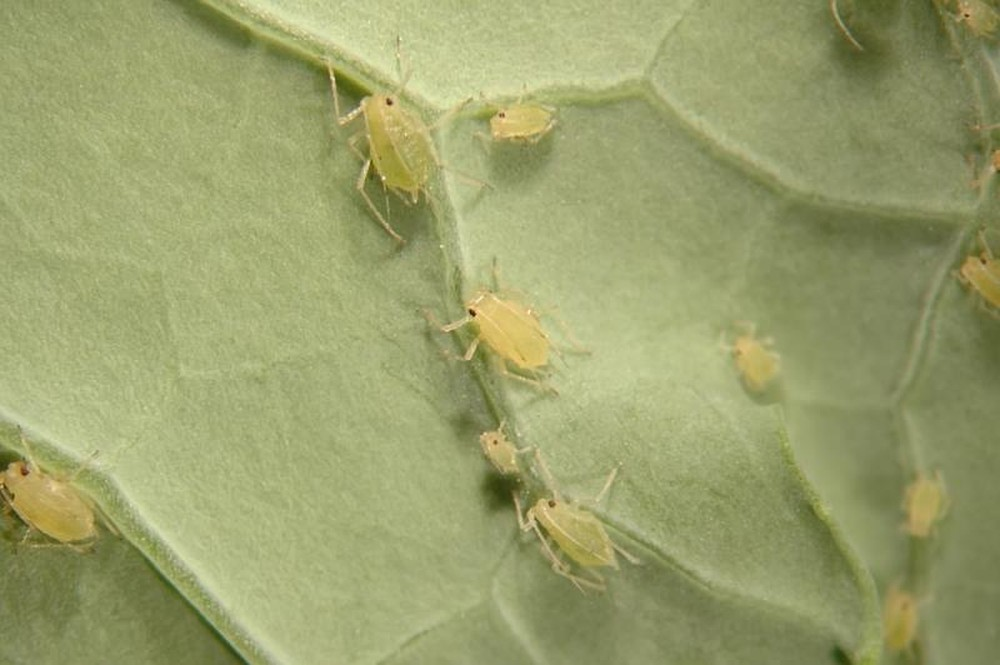Pulgon: (317, 50, 478, 231), (430, 263, 585, 399), (1, 434, 139, 580), (502, 489, 667, 602), (881, 461, 975, 552), (865, 569, 945, 665), (711, 315, 792, 401), (488, 81, 570, 149), (473, 418, 547, 481)
